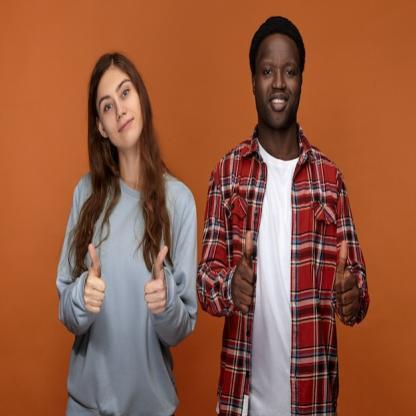thumb_up: (229, 225, 259, 320), (330, 236, 361, 324), (142, 242, 174, 320), (80, 240, 111, 315)
